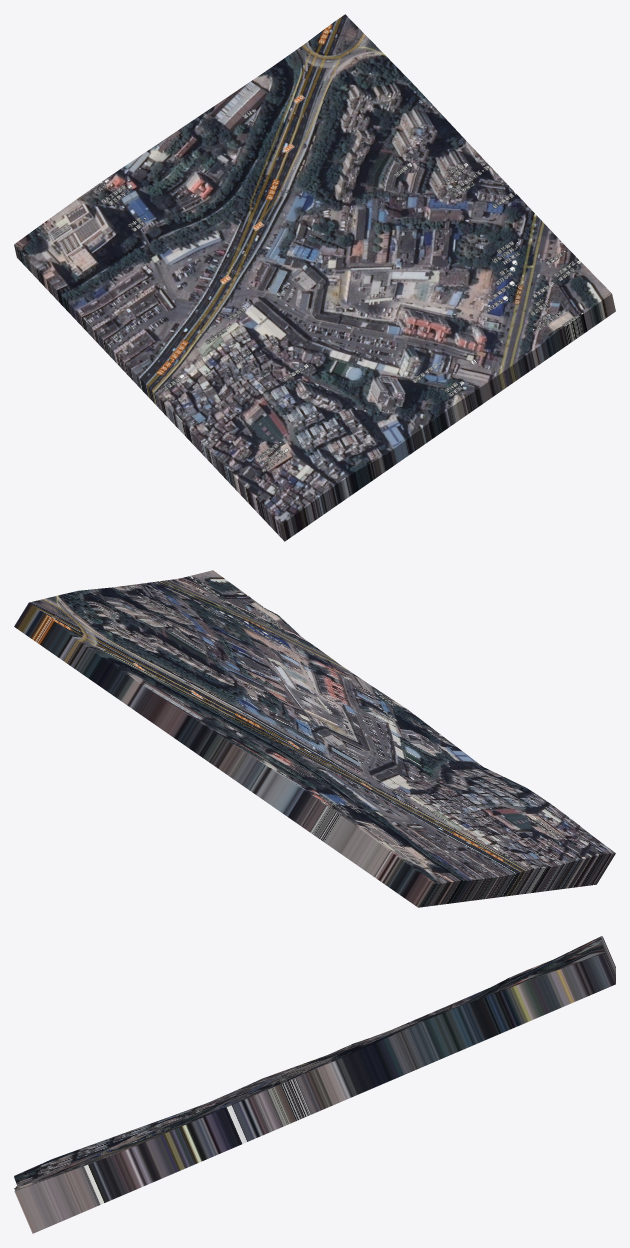
The picture shows the model from 3 angles, top to bottom: view 1: azimuth 30°, elevation 25°; view 2: azimuth 150°, elevation 25°; view 3: azimuth 270°, elevation 25°; orthographic projection. The views are drawn at different scales.
Parts seen in each view (by area): view 1: 0_1_23; view 2: 0_1_23; view 3: 0_1_23.
Boxes of the visible parts, x1,y1,x2,y2 form: 0_1_23: (14,14,615,541); 0_1_23: (14,570,615,907); 0_1_23: (14,936,615,1233).
Bounding box in the file's own units: 603 × 455 × 559.
Materials: 1 (1 with a texture image).
